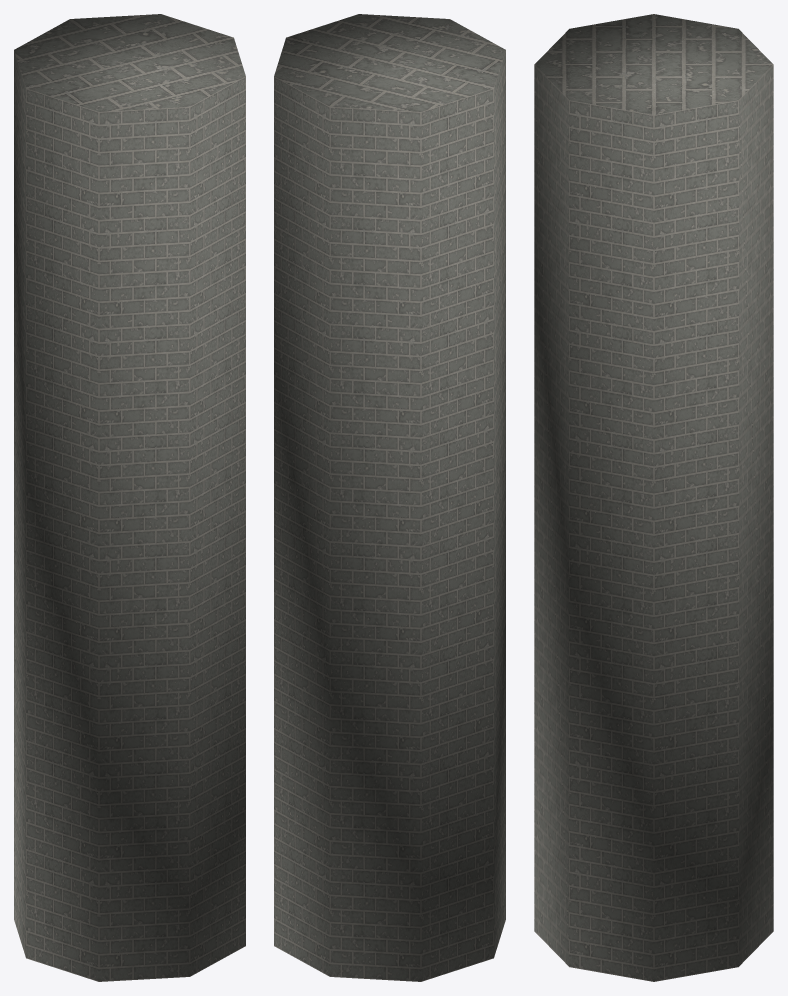
File: StonePillar.gltf
3 renders of one model, left to right at view 1: azimuth 30°, elevation 25°; view 2: azimuth 150°, elevation 25°; view 3: azimuth 270°, elevation 25°, orthographic.
Visible parts, largest first — view 1: Cylinder; view 2: Cylinder; view 3: Cylinder.
Boxes of the visible parts, left/top/right/bottom form: Cylinder: left=14, top=14, right=245, bottom=981; Cylinder: left=274, top=14, right=505, bottom=981; Cylinder: left=534, top=14, right=773, bottom=981.
Bounding box in the file's own units: 3.2 × 12.8 × 3.2.
1 material, 1 textured.
